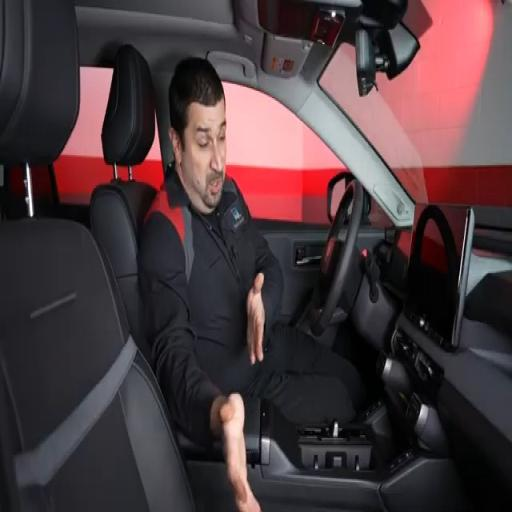side_mirror: (327, 171, 354, 223)
window: (224, 83, 346, 224)
windshield: (319, 0, 511, 206)
